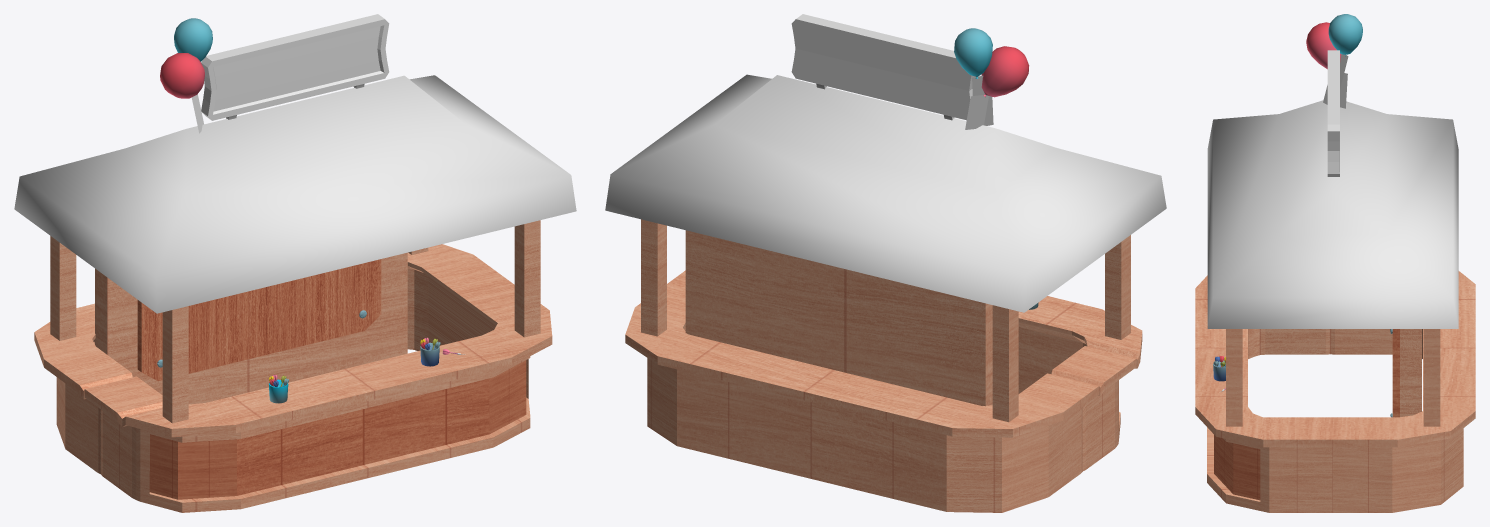
The model's file is SM_Stand_v2.fbx.
3 views of the same model, side by side, from view 1: azimuth 30°, elevation 25°; view 2: azimuth 150°, elevation 25°; view 3: azimuth 270°, elevation 25° (orthographic). The views are drawn at different scales.
Parts seen in each view (by area): view 1: Cube.003, Cube.007, Cube.001, Cube.016, Plane.001; view 2: Cube.003, Cube.007, Cube.001, Cube.016, Plane.001; view 3: Cube.003, Cube.007, Cube.001, Plane.001, Cube.016.
Boxes of the visible parts, left/top/right/bottom form: Cube.003: left=14, top=75, right=576, bottom=313; Cube.007: left=34, top=220, right=552, bottom=512; Cube.001: left=95, top=252, right=407, bottom=404; Cube.016: left=201, top=14, right=389, bottom=120; Plane.001: left=160, top=18, right=212, bottom=133; Cube.003: left=605, top=74, right=1166, bottom=312; Cube.007: left=625, top=219, right=1142, bottom=512; Cube.001: left=685, top=230, right=992, bottom=406; Cube.016: left=791, top=14, right=975, bottom=120; Plane.001: left=954, top=28, right=1029, bottom=129; Cube.003: left=1207, top=100, right=1458, bottom=328; Cube.007: left=1195, top=271, right=1475, bottom=512; Cube.001: left=1390, top=329, right=1421, bottom=417; Plane.001: left=1306, top=14, right=1362, bottom=108; Cube.016: left=1327, top=50, right=1339, bottom=176.
Size of the model in its own units: 2043 by 1933 by 1314.
